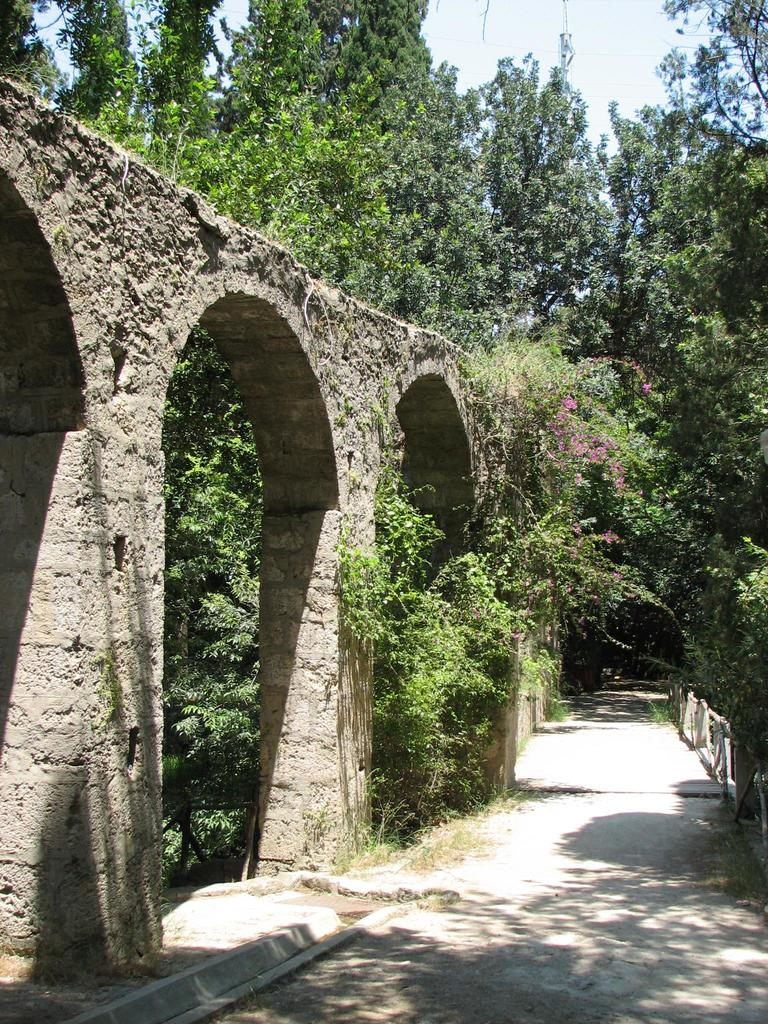Tree: (0, 0, 767, 801), (480, 38, 595, 325)
